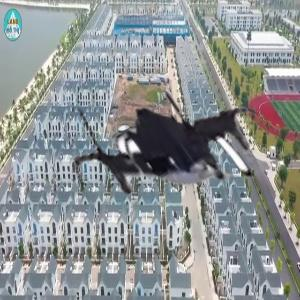drone: (67, 42, 278, 253)
